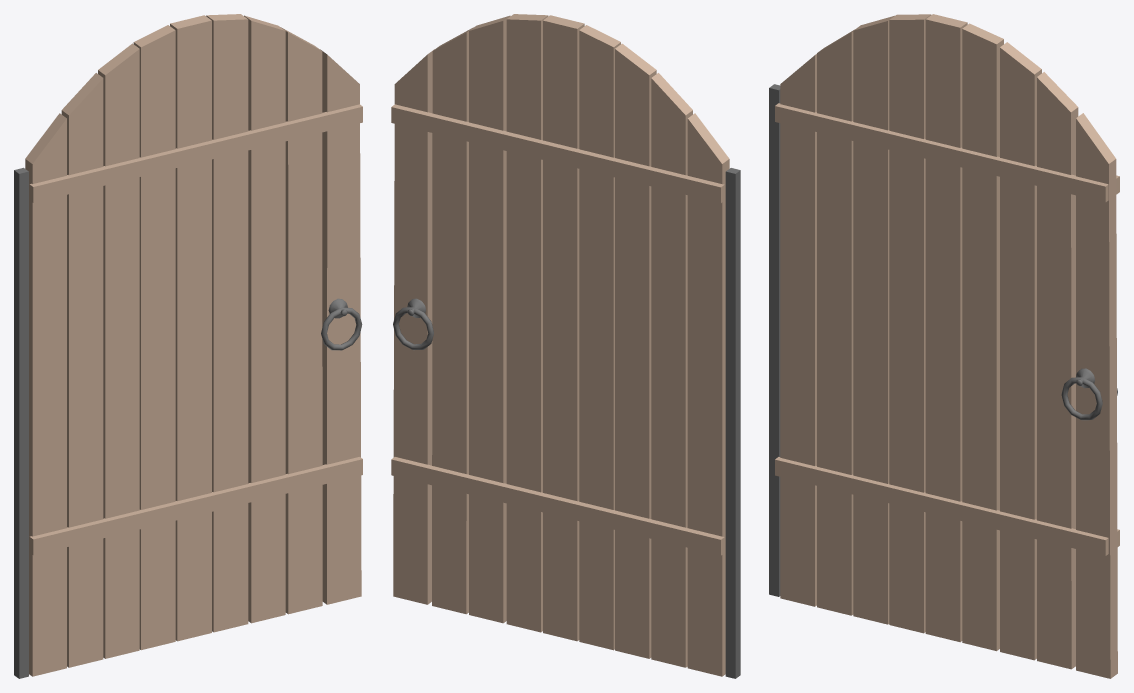
Rendered from ArchDoor.fbx.
3 views of the same model, side by side, from view 1: azimuth 30°, elevation 25°; view 2: azimuth 150°, elevation 25°; view 3: azimuth 330°, elevation 25° (orthographic).
Parts seen in each view (by area): view 1: Door_LOD0; view 2: Door_LOD0; view 3: Door_LOD0.
Part boxes in pixels (x1,y1,x2,y2): Door_LOD0: (14, 14, 362, 678); Door_LOD0: (391, 14, 740, 678); Door_LOD0: (769, 14, 1119, 678).
Size of what is drawn, in the model's own units: 105 by 180 by 11.79.
